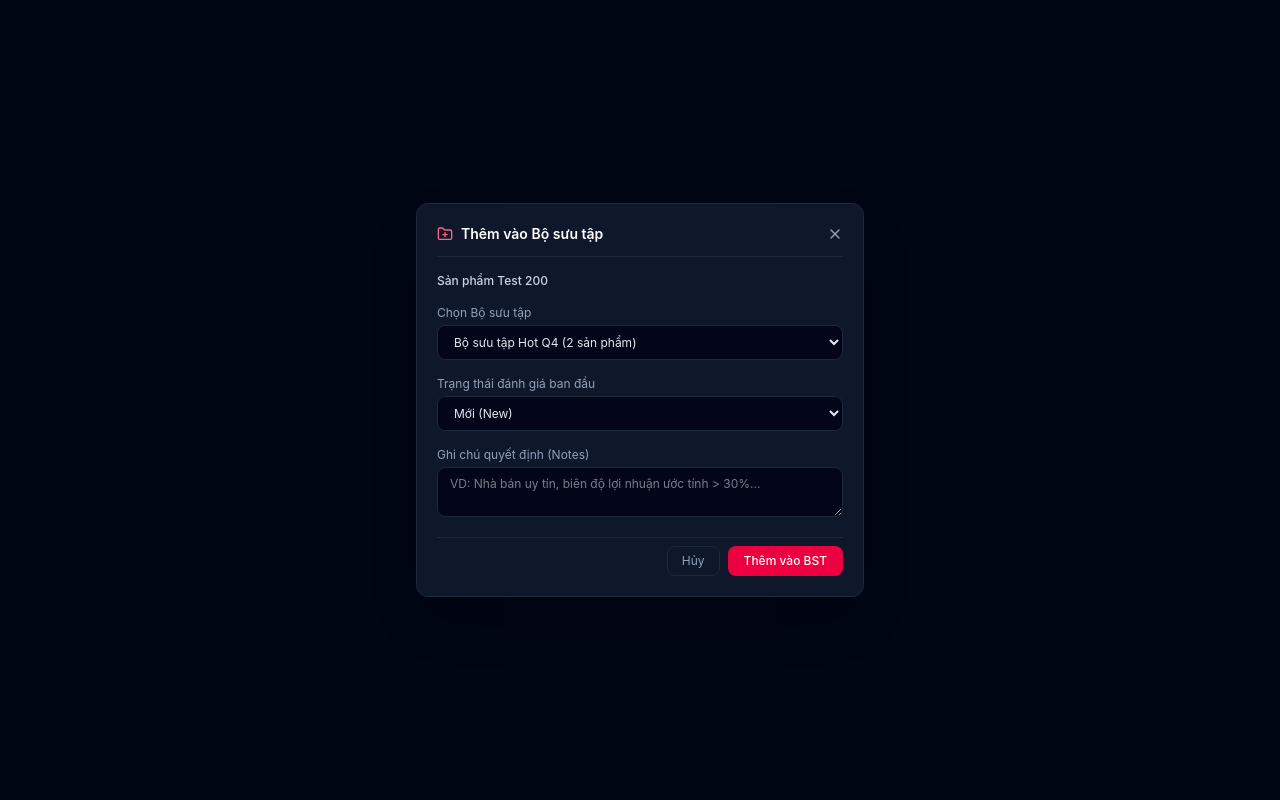
Phase 5 — Collections Workspace Frontend (P5-AC-31) › displays duplicate-add feedback error when product is already in collection
The image size is (1280, 800).
Check: the text "Sản phẩm Test 200" is shown, box [437,273,548,288]
Step 1. Select "Bộ sưu tập Hot Q4 (2 sản phẩm)" in the dropdown labelled "Chọn Bộ sưu tập" → [640, 342], box [437,325,843,360]
Step 2. Click the button "Thêm vào BST" → [785, 561], box [728,546,843,576]
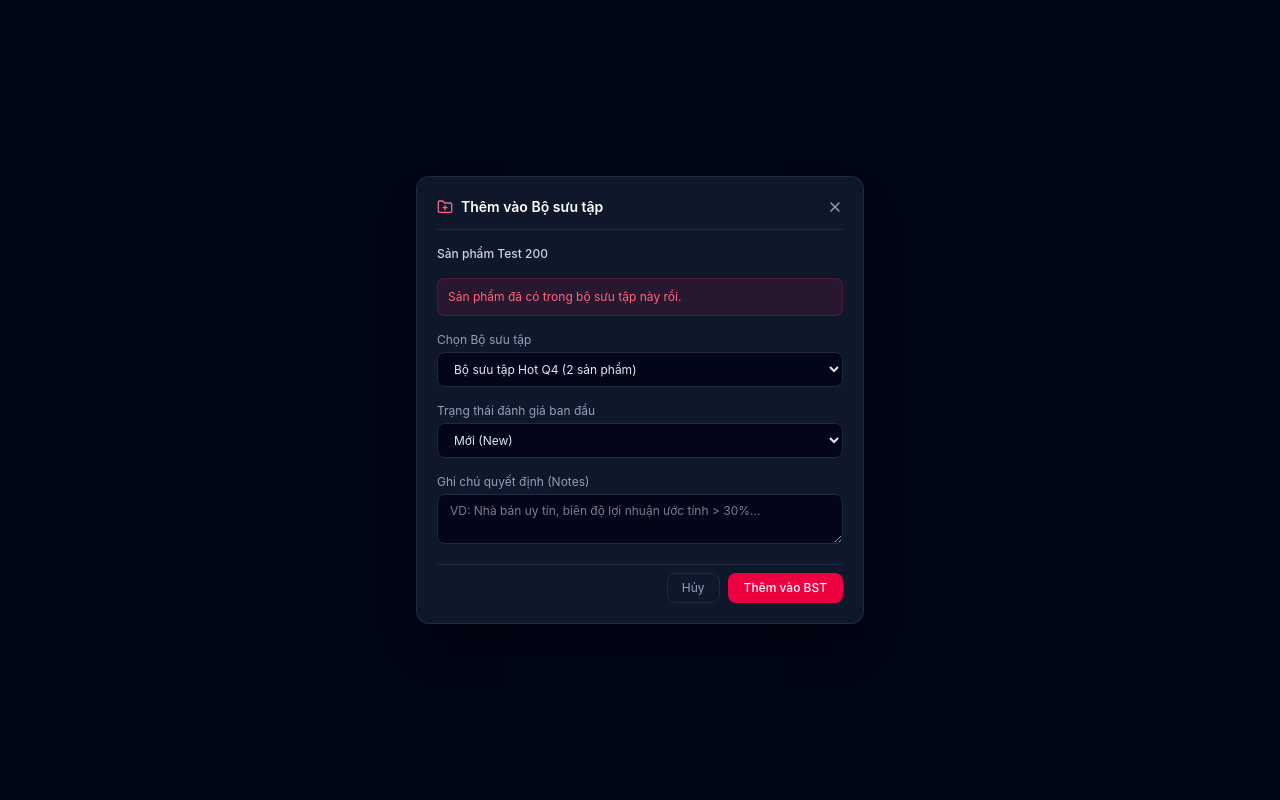
Check: the text "Sản phẩm đã có trong bộ sưu tập này rồi." is shown, box [437,278,843,316]
